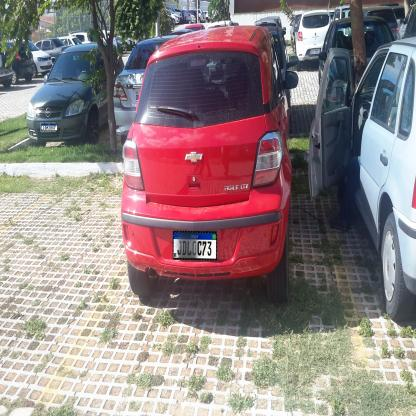PlacaM: (173, 231, 217, 260), (41, 124, 58, 131)
